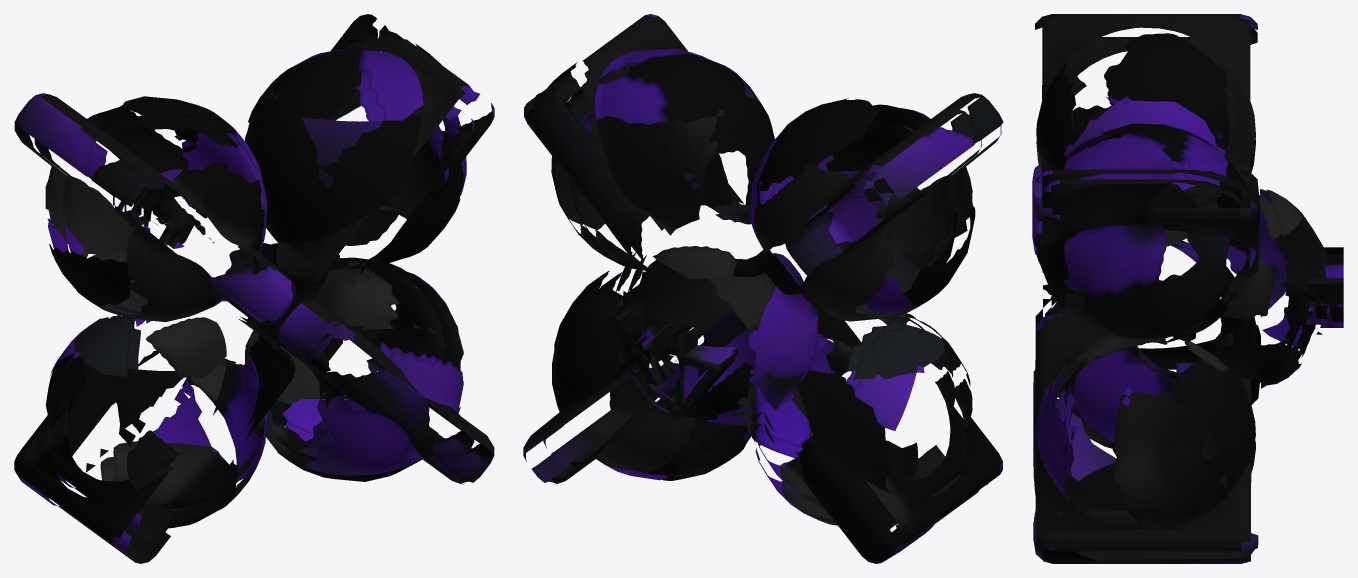
The model's file is note.dae.
The picture shows the model from 3 angles, left to right: view 1: azimuth 30°, elevation 25°; view 2: azimuth 150°, elevation 25°; view 3: azimuth 270°, elevation 25°; orthographic projection.
Visible parts, largest first — view 1: Mesh, Mesh_001; view 2: Mesh, Mesh_001; view 3: Mesh, Mesh_001.
Boxes of the visible parts, box(x1,y1,x2,y2) form: Mesh: box(14, 14, 494, 563); Mesh_001: box(34, 37, 474, 540); Mesh: box(523, 14, 1003, 563); Mesh_001: box(543, 63, 981, 528); Mesh: box(1032, 14, 1343, 563); Mesh_001: box(1042, 37, 1326, 530).
Bounding box in the file's own units: 0.4812 × 0.3349 × 0.4832.
